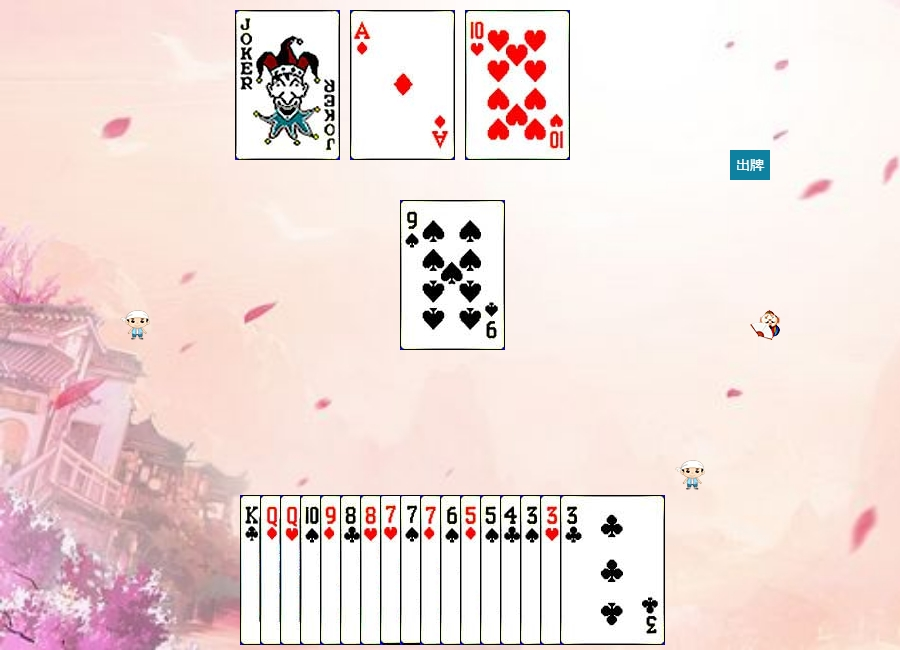10~3: (465, 10, 570, 160)
10~4: (300, 495, 405, 645)
12~1: (260, 495, 365, 645)
12~3: (280, 495, 385, 645)
13~2: (240, 495, 345, 645)
14~1: (350, 10, 455, 160)
17~3: (235, 10, 340, 160)
3~2: (560, 495, 665, 645)
3~3: (540, 495, 645, 645)
3~4: (520, 495, 625, 645)
4~2: (500, 495, 605, 645)
5~1: (460, 495, 565, 645)
5~4: (480, 495, 585, 645)
6~4: (440, 495, 545, 645)
7~1: (420, 495, 525, 645)
7~3: (380, 495, 485, 645)
7~4: (400, 495, 505, 645)
8~2: (340, 495, 445, 645)
8~3: (360, 495, 465, 645)
9~1: (320, 495, 425, 645)
9~4: (400, 200, 505, 350)
